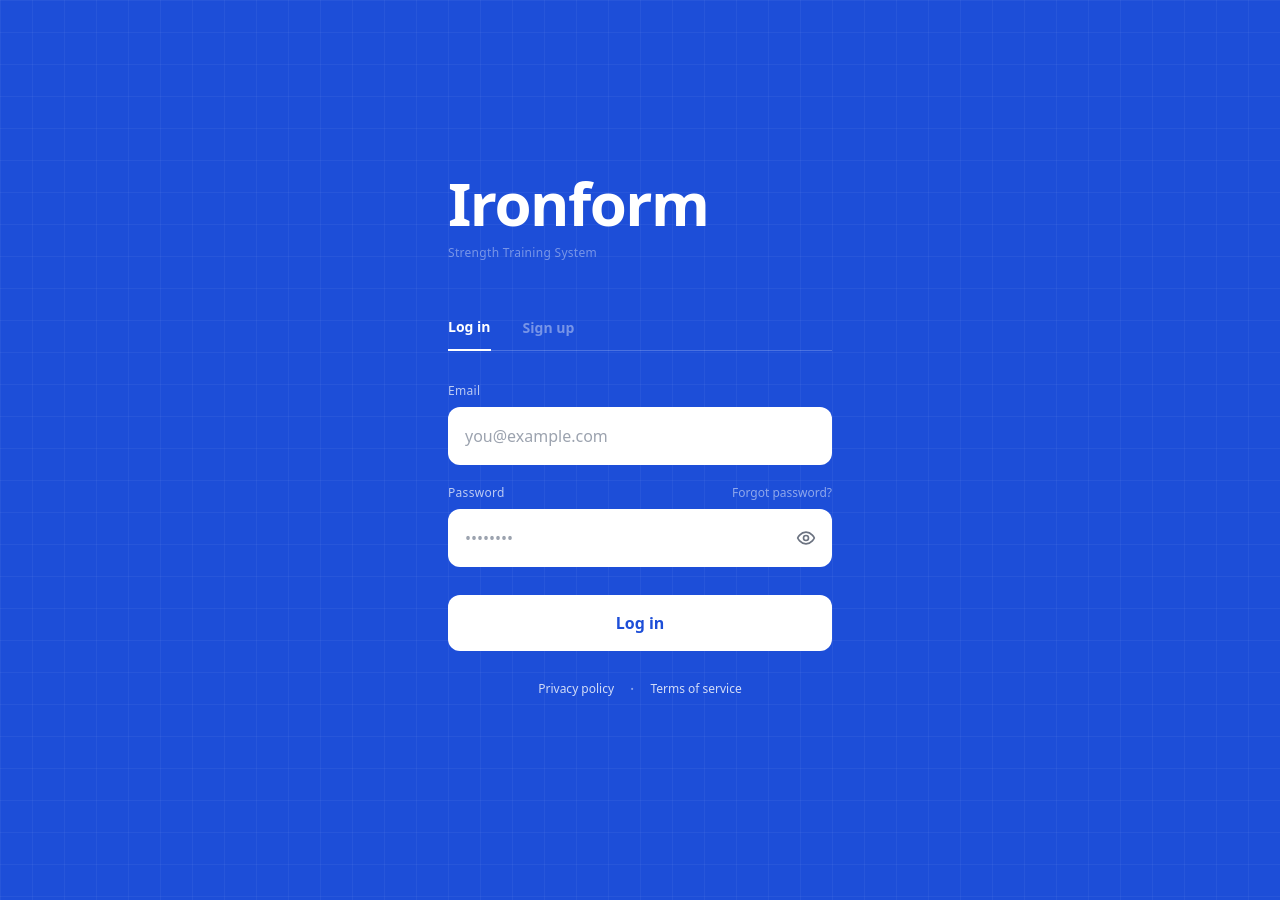
Test: AuthForm — forgot password › shows a "Forgot password?" link on the login tab only
Expected: the button "Forgot password?" is shown, [732,485,832,501]
Click the button "Sign up" at (548, 334), box [522,317,574,350]
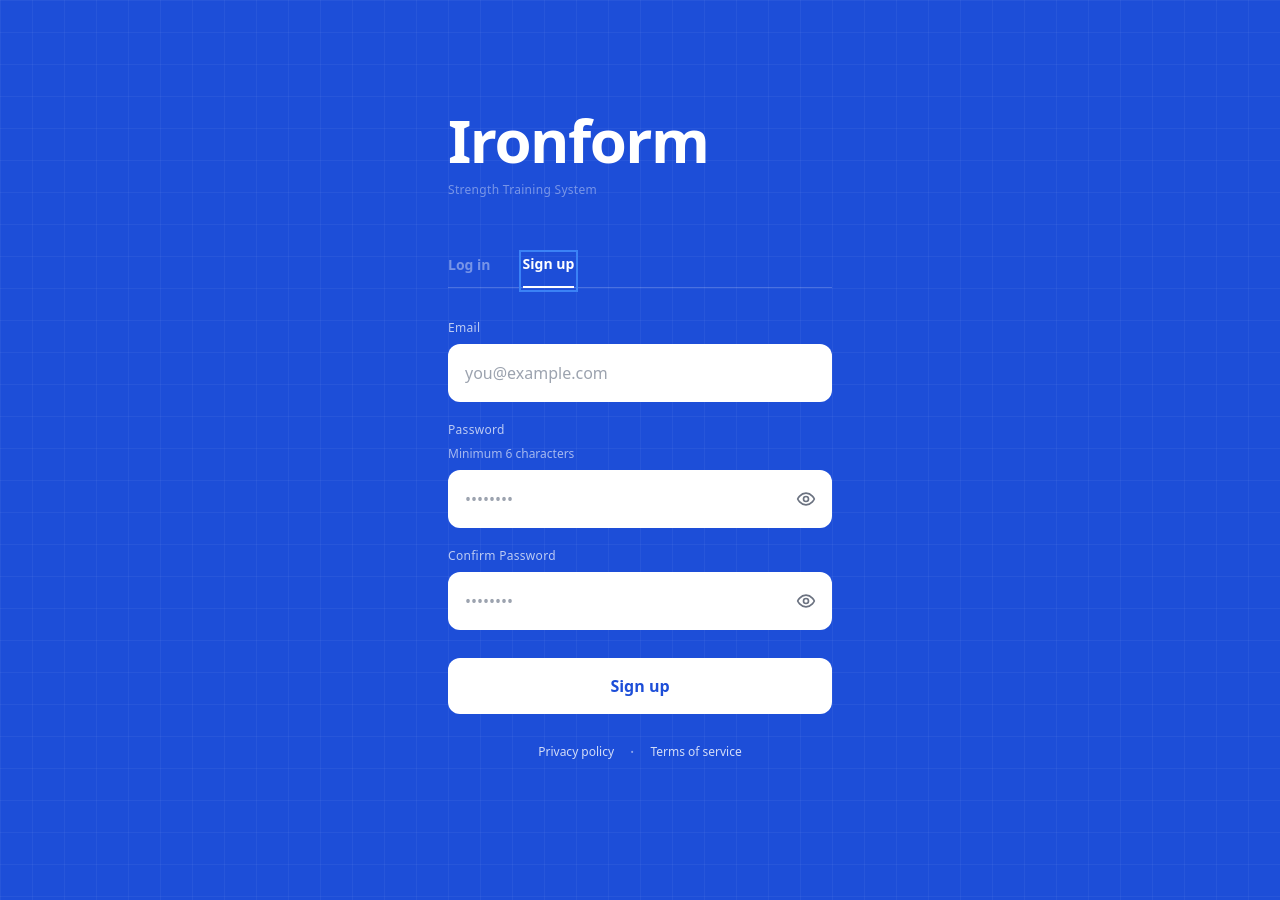
Expected: the button "Forgot password?" is gone
